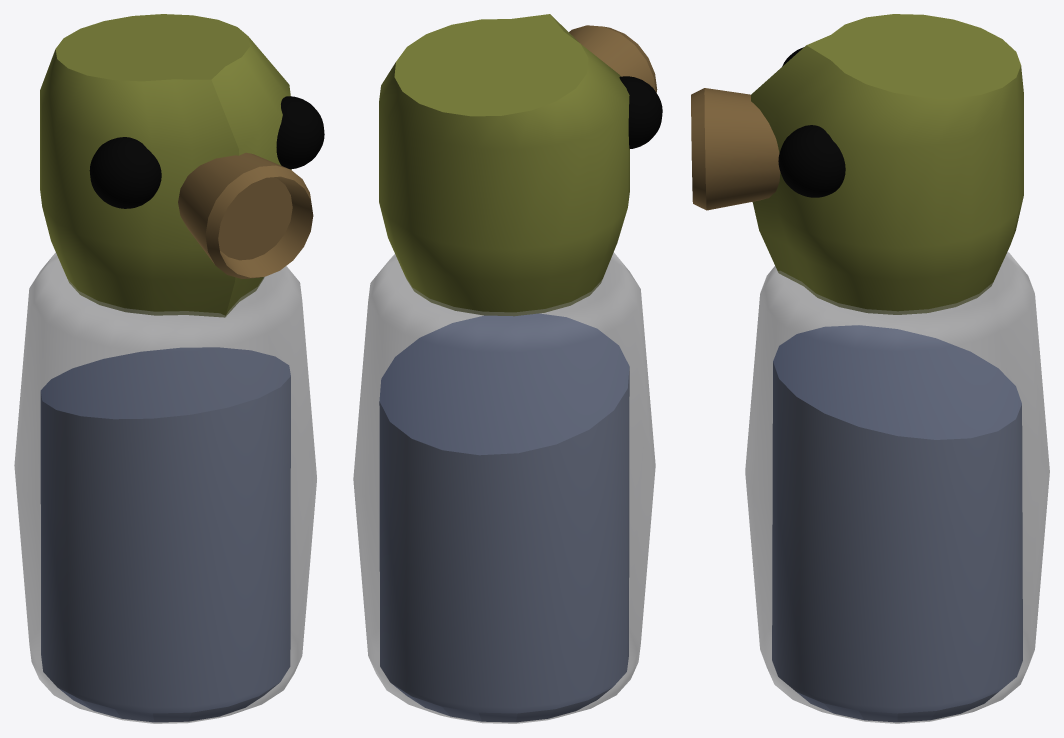
File: duck (1).fbx
The picture shows the model from 3 angles, left to right: view 1: azimuth 30°, elevation 25°; view 2: azimuth 150°, elevation 25°; view 3: azimuth 270°, elevation 25°; orthographic projection.
Parts seen in each view (by area): view 1: pCylinder5; view 2: pCylinder5; view 3: pCylinder5.
Part boxes in pixels (left/top/right/bottom): pCylinder5: left=14, top=14, right=324, bottom=723; pCylinder5: left=353, top=14, right=662, bottom=723; pCylinder5: left=691, top=14, right=1049, bottom=723.
Bounding box in the file's own units: 25.07 × 57.54 × 29.52.
